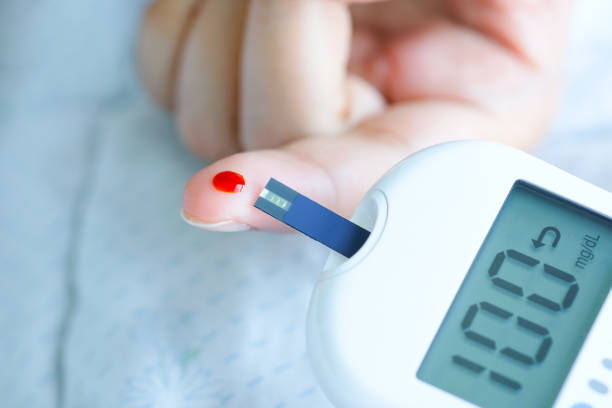blood: (208, 167, 247, 194)
